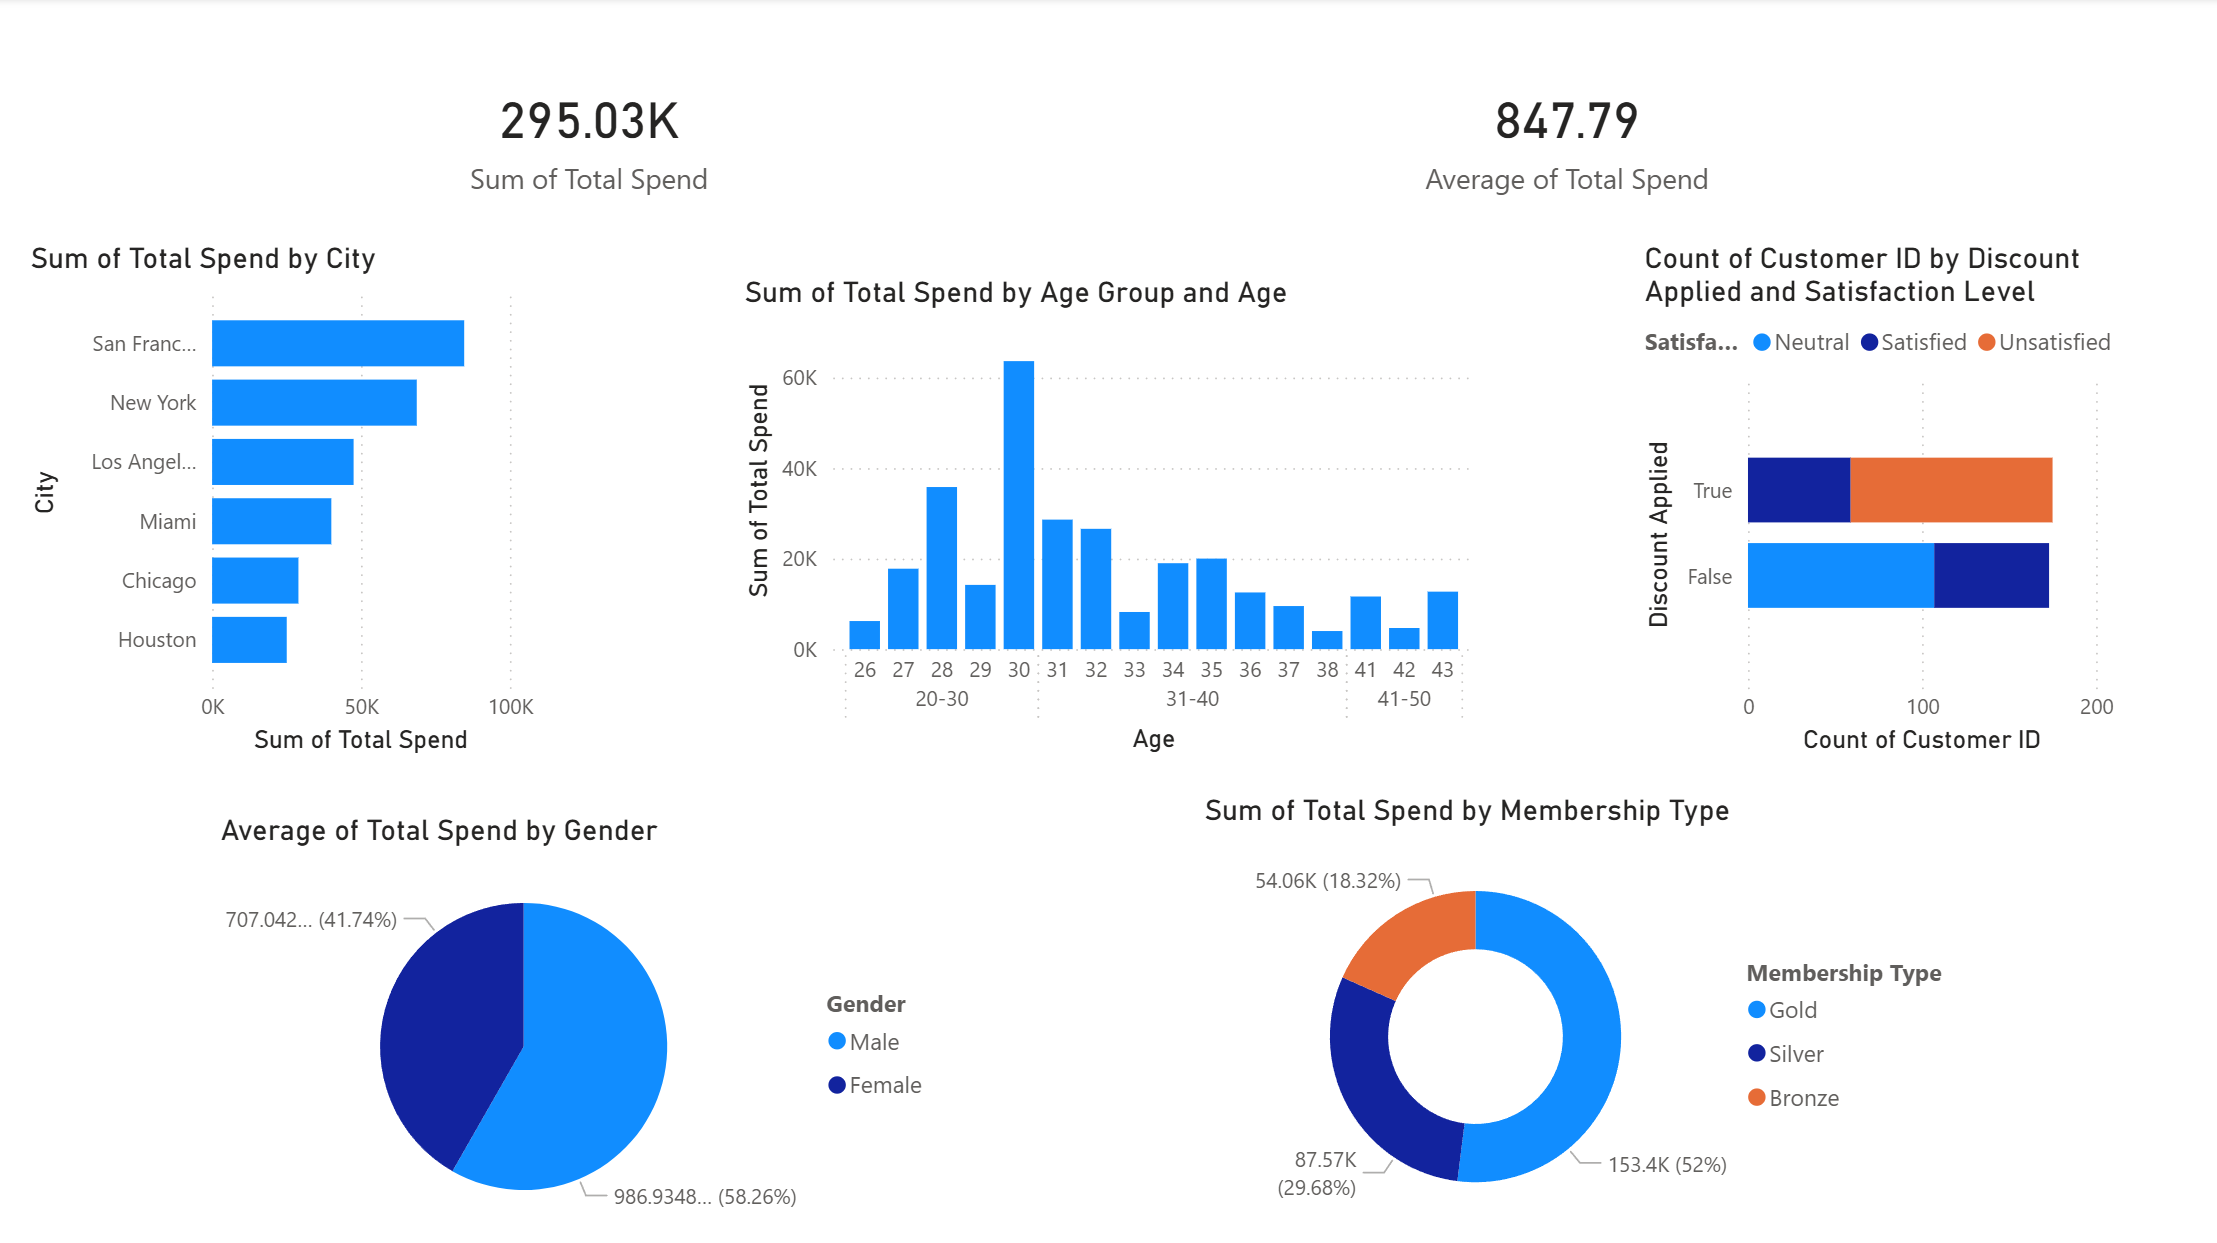

The page's visual inventory and layout, read from the dashboard file:
{"tool":"powerbi","page":{"name":"Page 1","canvas":[1280,720],"ordinal":0},"visuals":[{"type":"card","fields":{"Values":["Sum(Final_Ecommerce_Data.Total Spend)"]},"box":[200,0,280,160],"z":0},{"type":"card","fields":{"Values":["Avg(Final_Ecommerce_Data.Total Spend)"]},"box":[763.3,0,280,160],"z":1000},{"type":"clusteredBarChart","fields":{"Category":["Final_Ecommerce_Data.City"],"Y":["Sum(Final_Ecommerce_Data.Total Spend)"]},"box":[13.3,140,300,300],"z":2000},{"type":"donutChart","fields":{"Category":["Final_Ecommerce_Data.Membership Type"],"Y":["Sum(Final_Ecommerce_Data.Total Spend)"]},"box":[690,458.3,450,261.7],"z":3000},{"type":"clusteredColumnChart","fields":{"Category":["Final_Ecommerce_Data.Age Group","Final_Ecommerce_Data.Age"],"Y":["Sum(Final_Ecommerce_Data.Total Spend)"]},"box":[425,160,430,280],"z":4000},{"type":"pieChart","fields":{"Category":["Final_Ecommerce_Data.Gender"],"Y":["Avg(Final_Ecommerce_Data.Total Spend)"]},"box":[123.3,470,425,250],"z":5000},{"type":"barChart","fields":{"Category":["Final_Ecommerce_Data.Discount Applied"],"Y":["CountNonNull(Final_Ecommerce_Data.Customer ID)"],"Series":["Final_Ecommerce_Data.Satisfaction Level"]},"box":[943.3,140,280,300],"z":6000}]}

Visuals, with their boxes in screenshot pixels (x1, y1, x2, y2), scaled from the page's 1280x720 canvas onto the 2217x1243 screenshot:
card - Sum(Final_Ecommerce_Data.Total Spend): (346, 0, 831, 276)
card - Avg(Final_Ecommerce_Data.Total Spend): (1322, 0, 1807, 276)
clusteredBarChart - Final_Ecommerce_Data.City x Sum(Final_Ecommerce_Data.Total Spend): (23, 242, 543, 760)
donutChart - Final_Ecommerce_Data.Membership Type x Sum(Final_Ecommerce_Data.Total Spend): (1195, 791, 1975, 1242)
clusteredColumnChart - Final_Ecommerce_Data.Age Group x Final_Ecommerce_Data.Age: (736, 276, 1481, 760)
pieChart - Final_Ecommerce_Data.Gender x Avg(Final_Ecommerce_Data.Total Spend): (214, 811, 950, 1242)
barChart - Final_Ecommerce_Data.Discount Applied x CountNonNull(Final_Ecommerce_Data.Customer ID): (1634, 242, 2119, 760)
